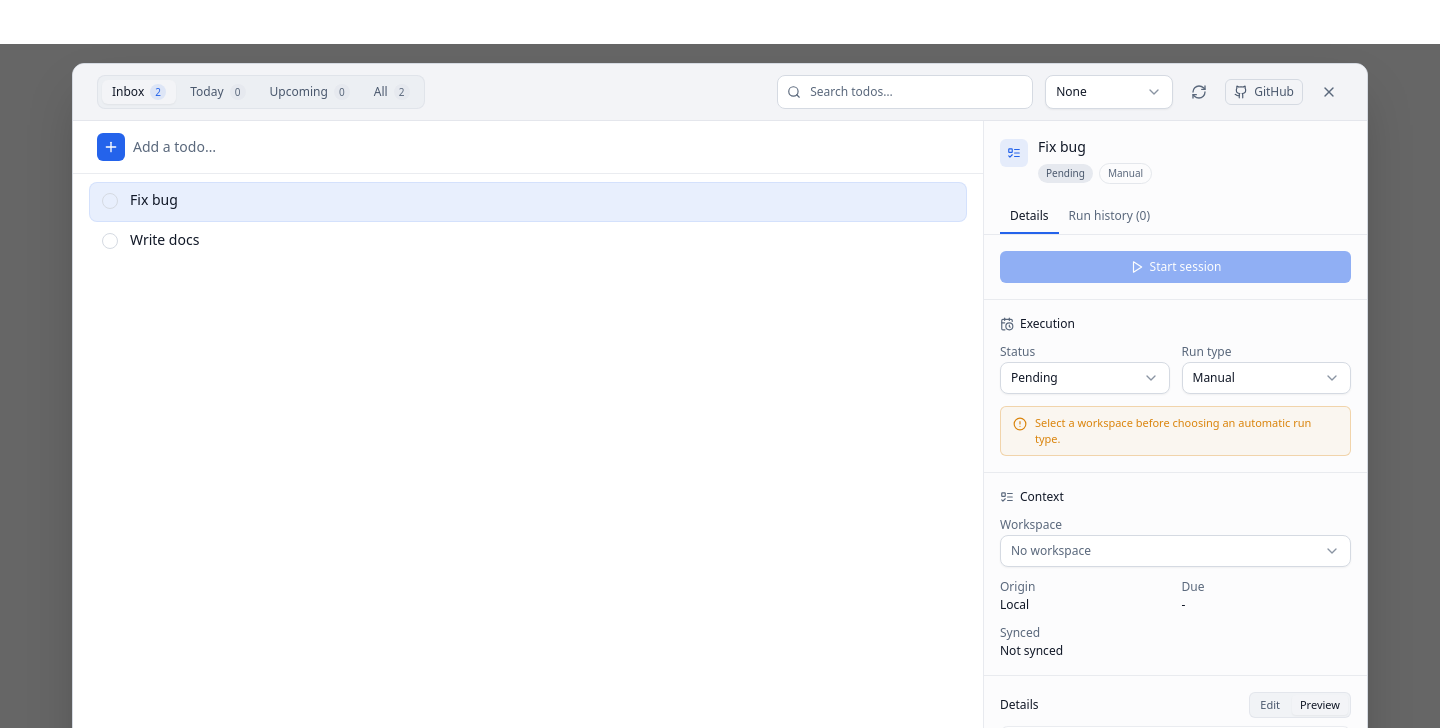
TodosPanel — search behavior and lifecycle (U2) › filters the list by title within the active view
This screenshot has width=1440, height=728.
Check: the text "Fix bug" is shown, box left=130, top=190, right=178, bottom=208
Type "bug" into the field with placeholder "Search todos…" at (905, 92), box left=777, top=74, right=1033, bottom=108
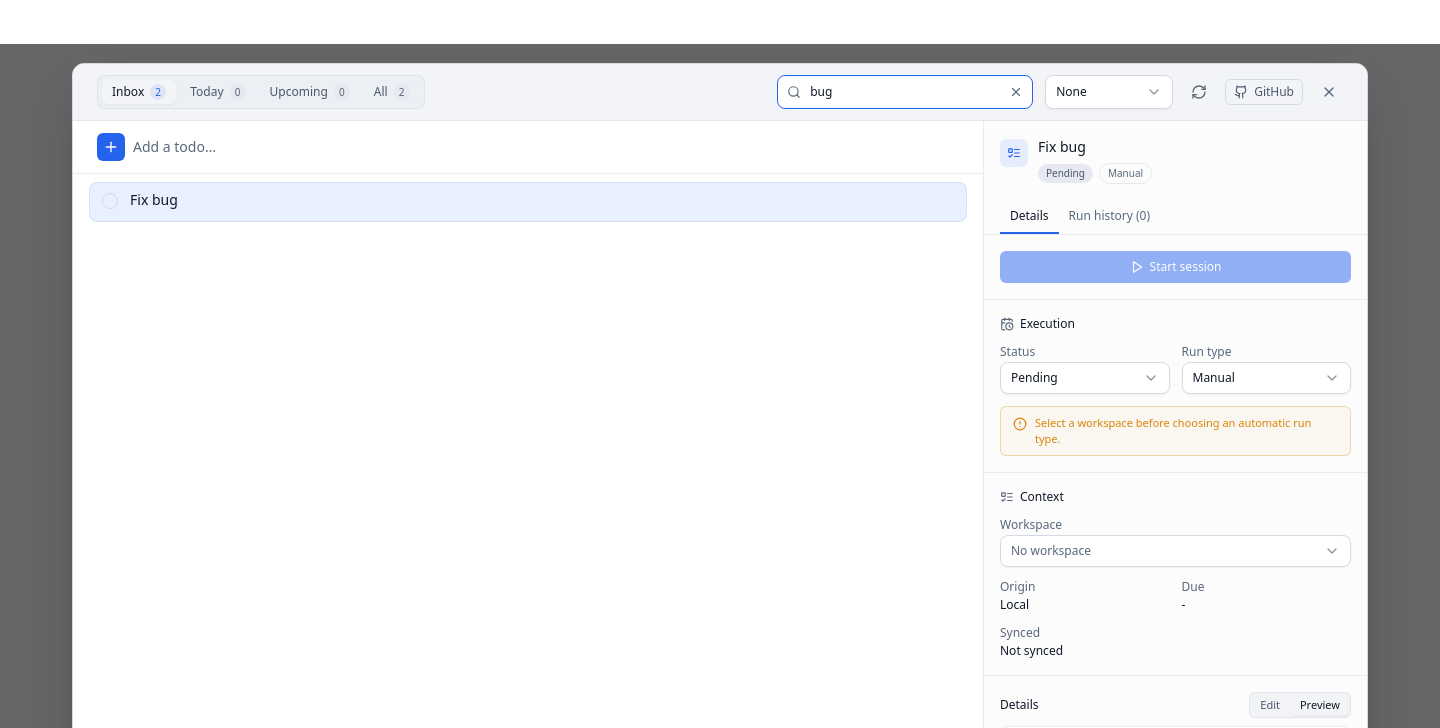
Check: the text "Fix bug" is shown, box left=130, top=190, right=178, bottom=208
Check: the text "Write docs" is gone
